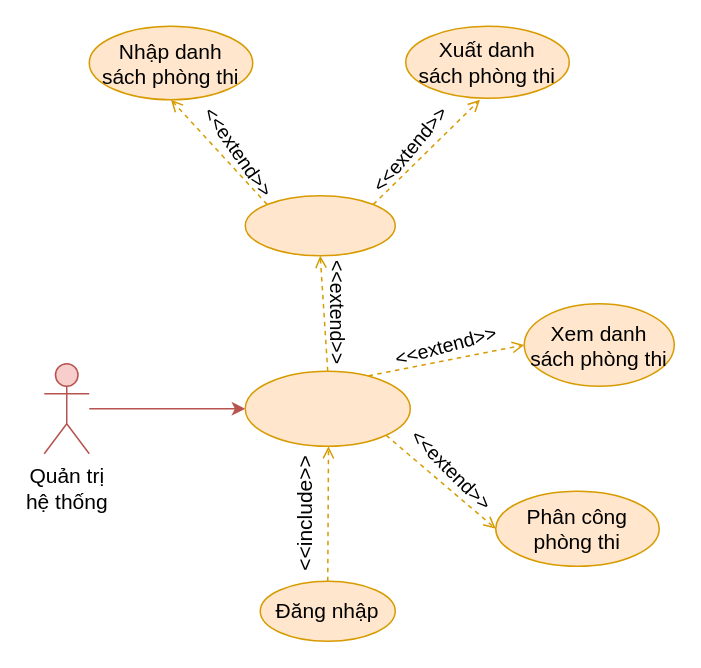
This 701x668 diagram has some shape labels left out. Each missing label, with the centre of its shape:
quản lý nhập xuất: [319,225]
Quản lý phòng thi thuộc kỳ thi: [327,408]
